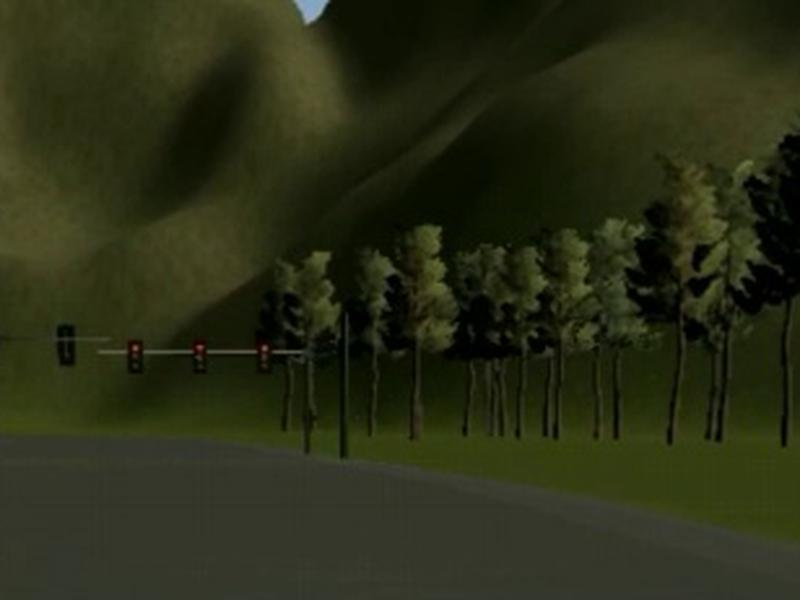Red: (193, 341, 208, 374), (129, 341, 143, 374), (259, 344, 273, 373)
